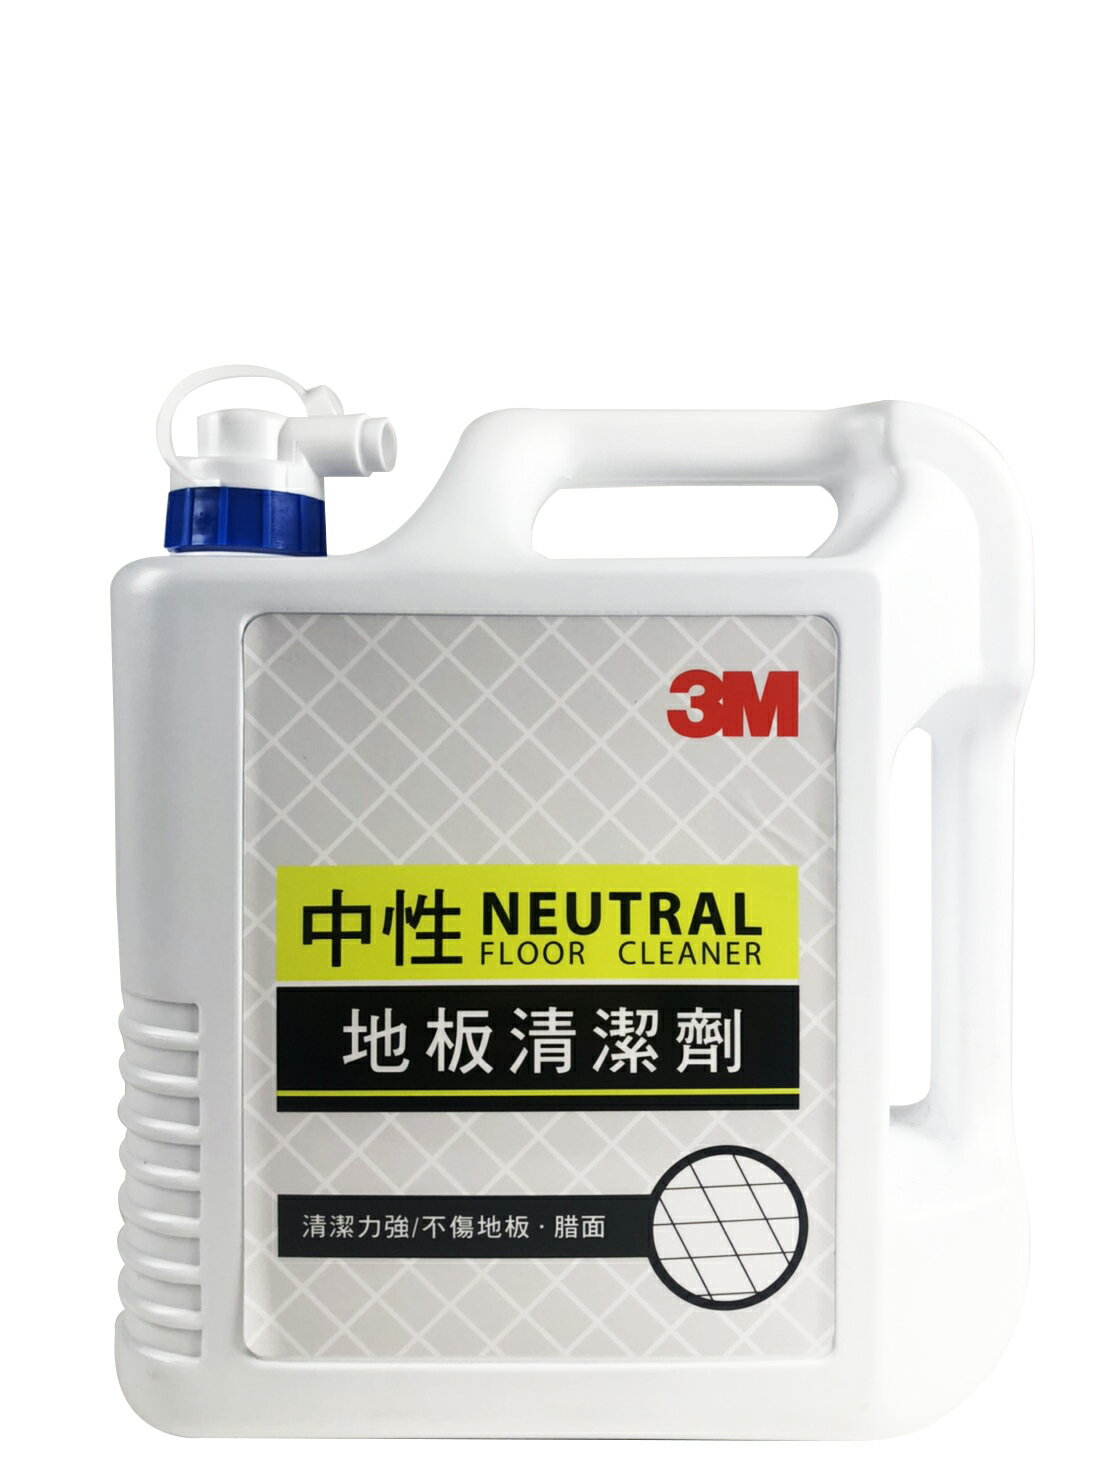cleaner: (94, 356, 1023, 1448)
